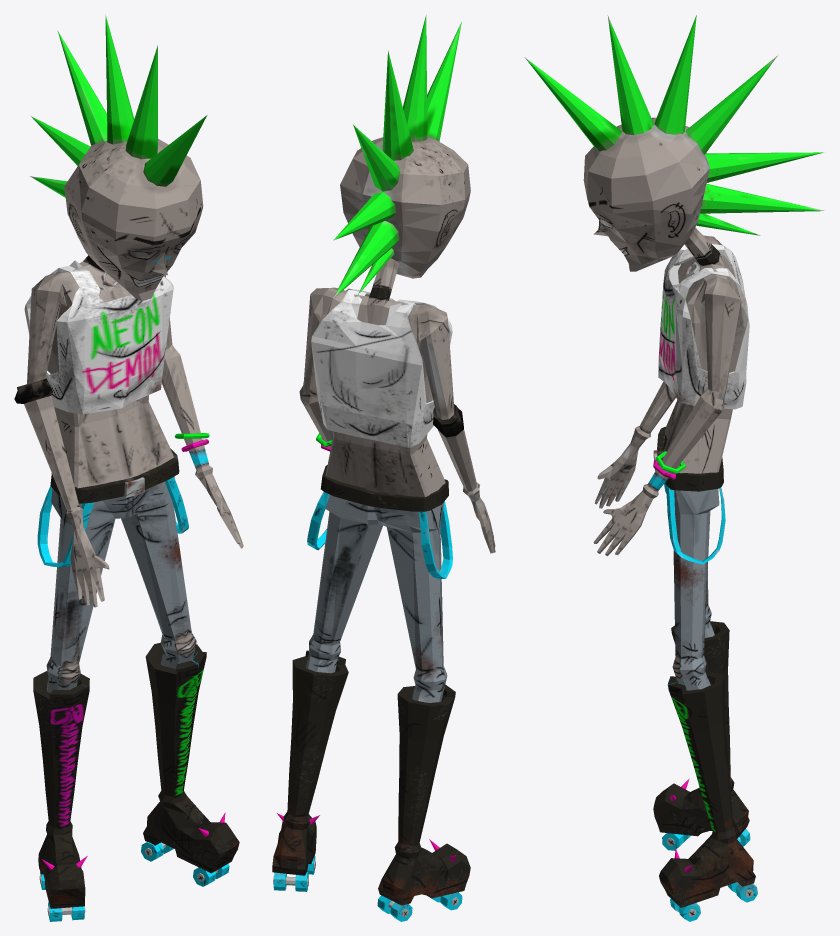
Rendered from punkAnimation_000031.obj.
The picture shows the model from 3 angles, left to right: view 1: azimuth 30°, elevation 25°; view 2: azimuth 150°, elevation 25°; view 3: azimuth 270°, elevation 25°; orthographic projection. The views are drawn at different scales.
Parts seen in each view (by area): view 1: Cube.004_Cube.003; view 2: Cube.004_Cube.003; view 3: Cube.004_Cube.003.
Part boxes in pixels (bbox=[...]): Cube.004_Cube.003: bbox=[14, 15, 243, 921]; Cube.004_Cube.003: bbox=[272, 15, 495, 921]; Cube.004_Cube.003: bbox=[524, 15, 824, 921].
Size of the model in its own units: 1.83 by 7.53 by 2.41.
